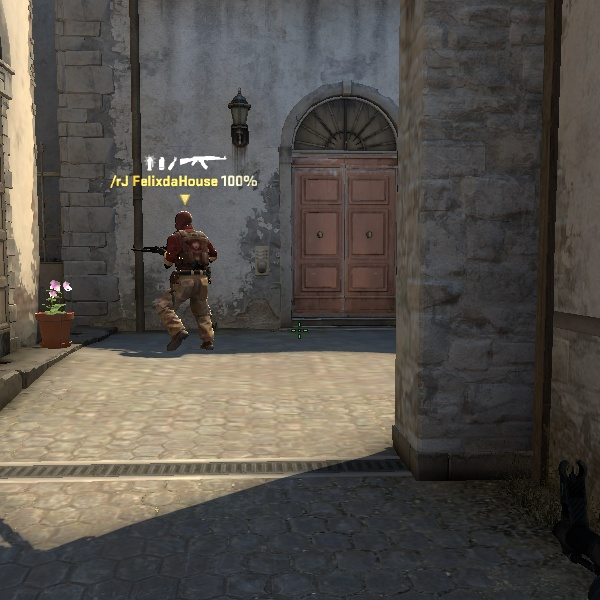t_body: (143, 209, 228, 352)
t_head: (168, 207, 200, 240)
